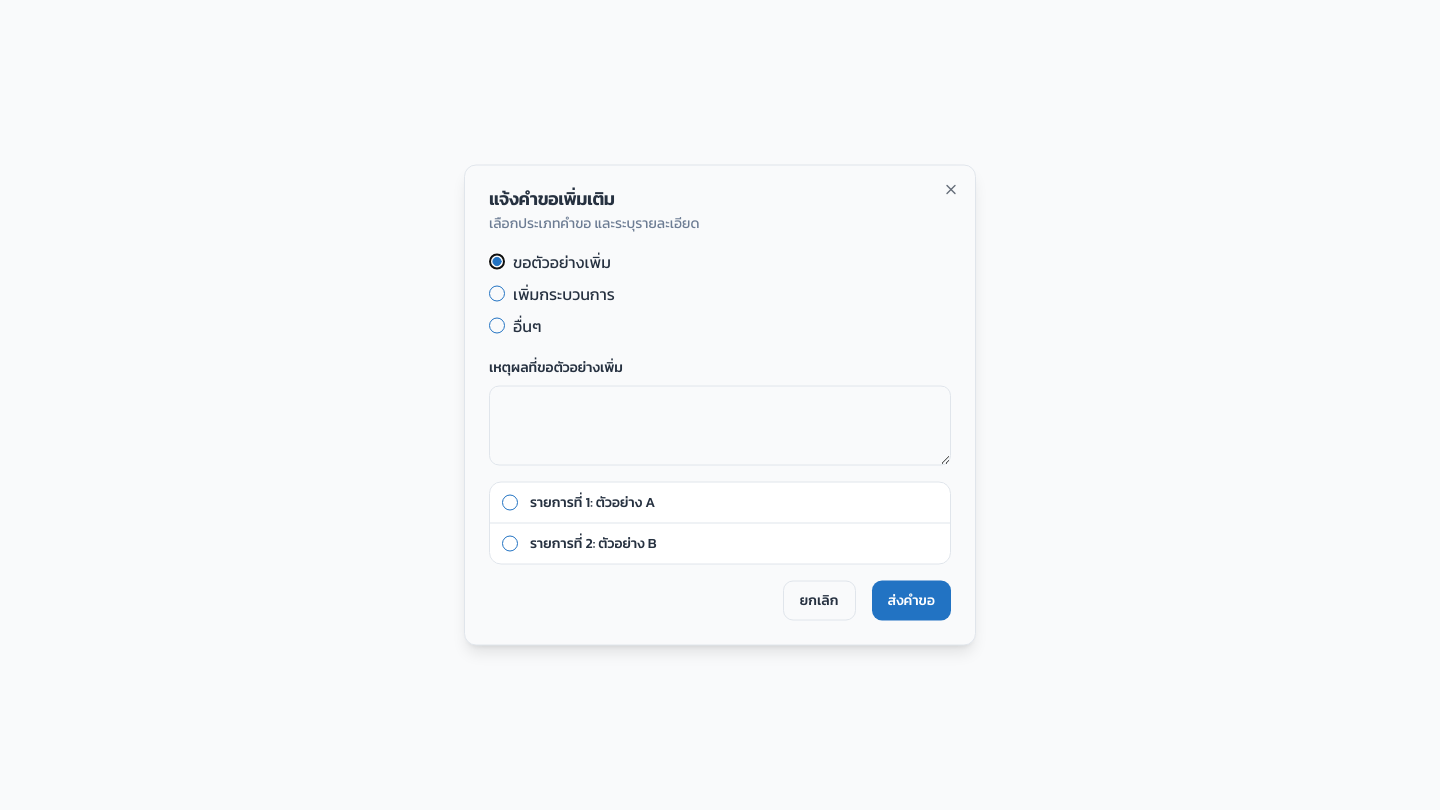
Scenario: AdditionalSampleRequestDialog › shows failed autosaves and does not create a request
In the text box labelled "เหตุผลที่ขอตัวอย่างเพิ่ม": (720, 426) [489,386,951,466], type " ค่าสูงกว่าเกณฑ์ "
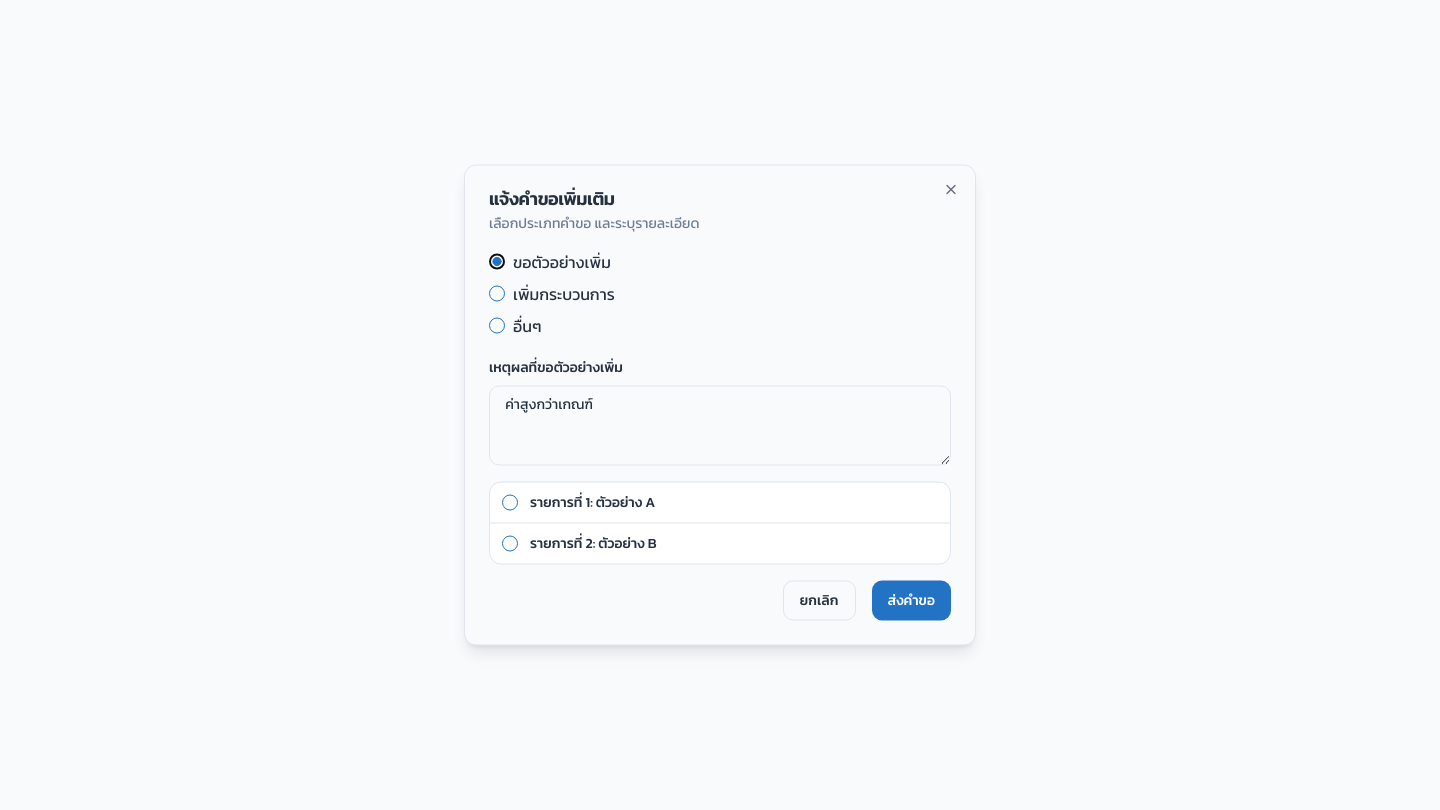
Click the checkbox named "ตัวอย่าง A" in the row of "ตัวอย่าง A": (510, 502) [502,494,518,510]
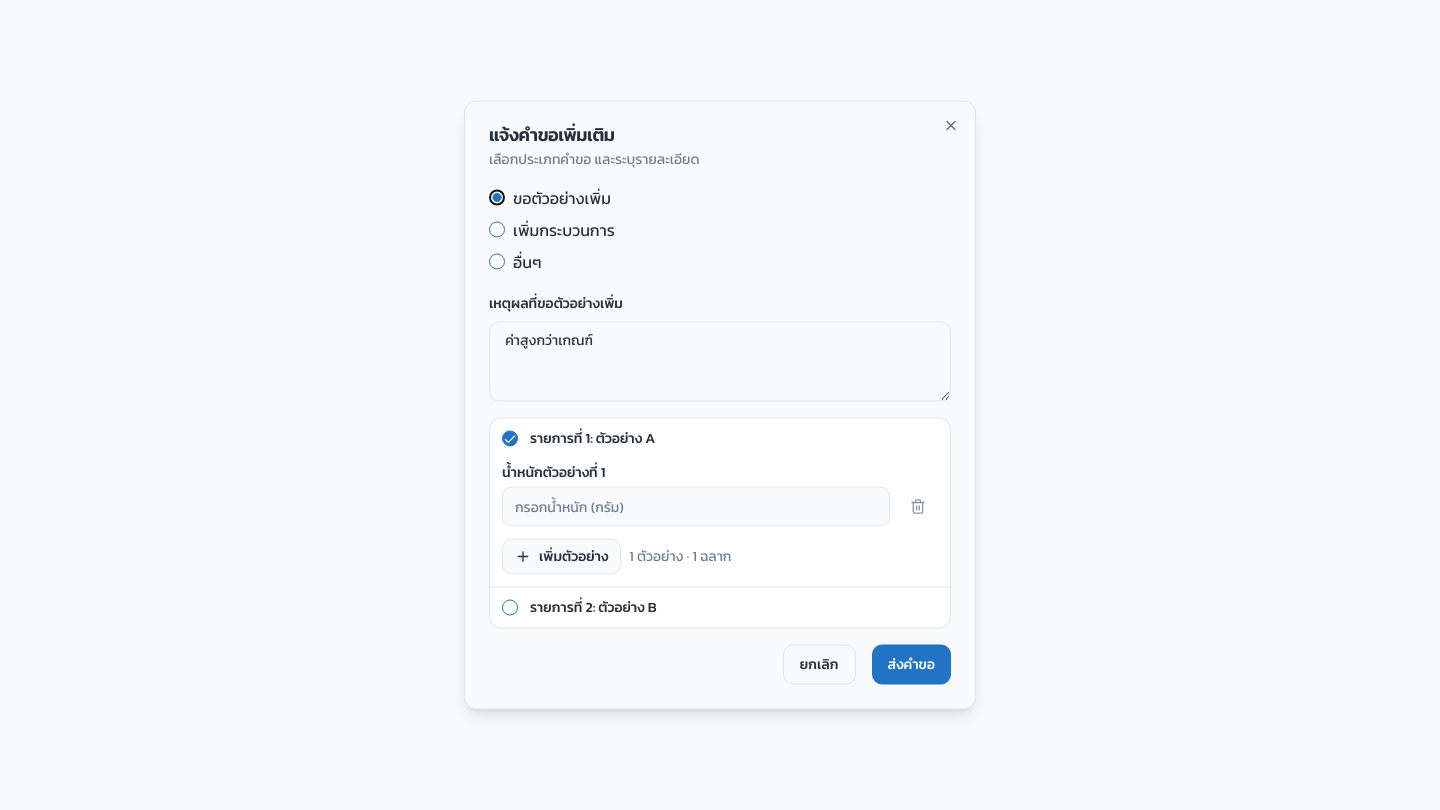
In the number field named "น้ำหนักตัวอย่างที่ 1 รายการที่ 1": (696, 506) [502,486,890,526], type "100"
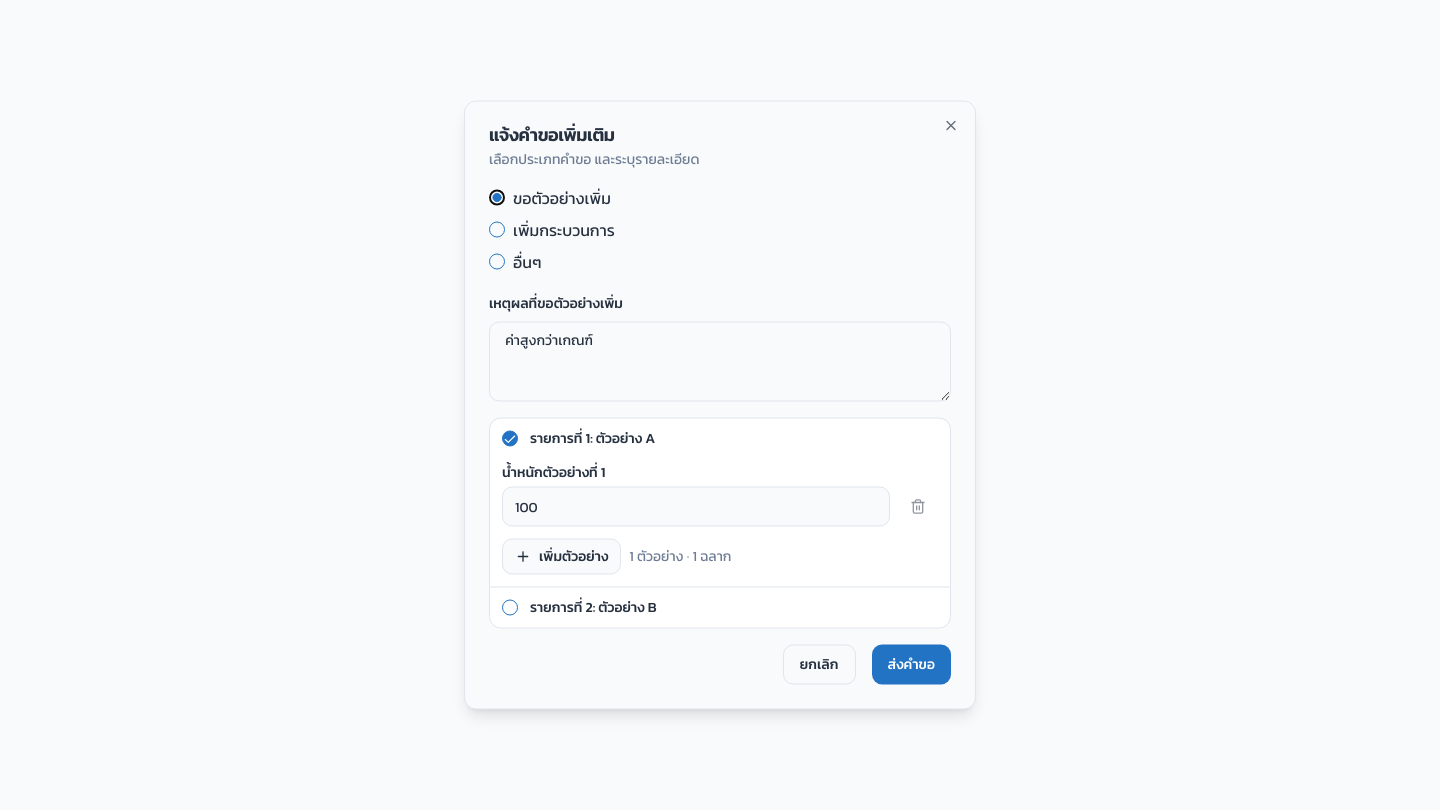
Click the button "ส่งคำขอ": (911, 664) [872,644,951,684]
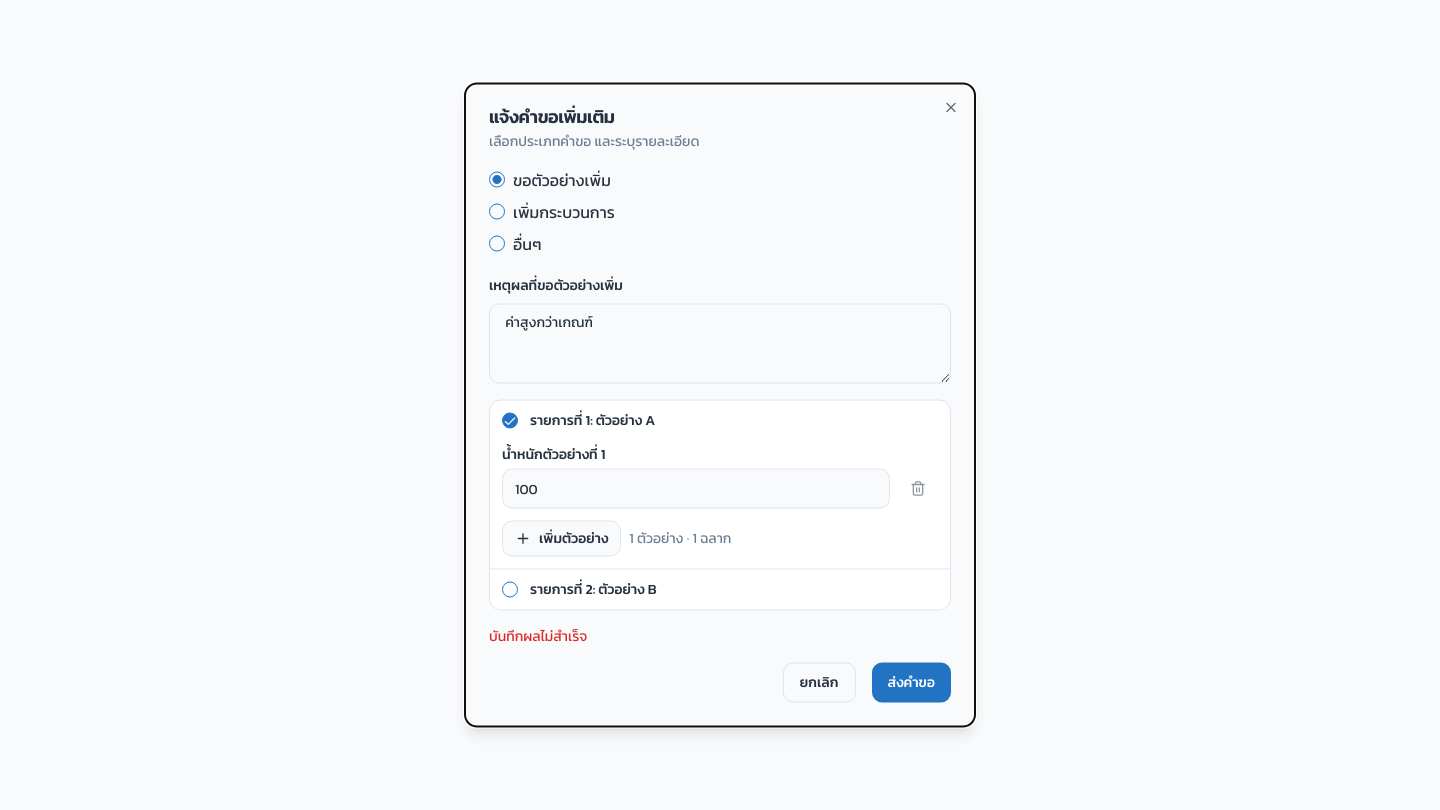
Check: the message reads "บันทึกผลไม่สำเร็จ", box [489,626,587,646]
